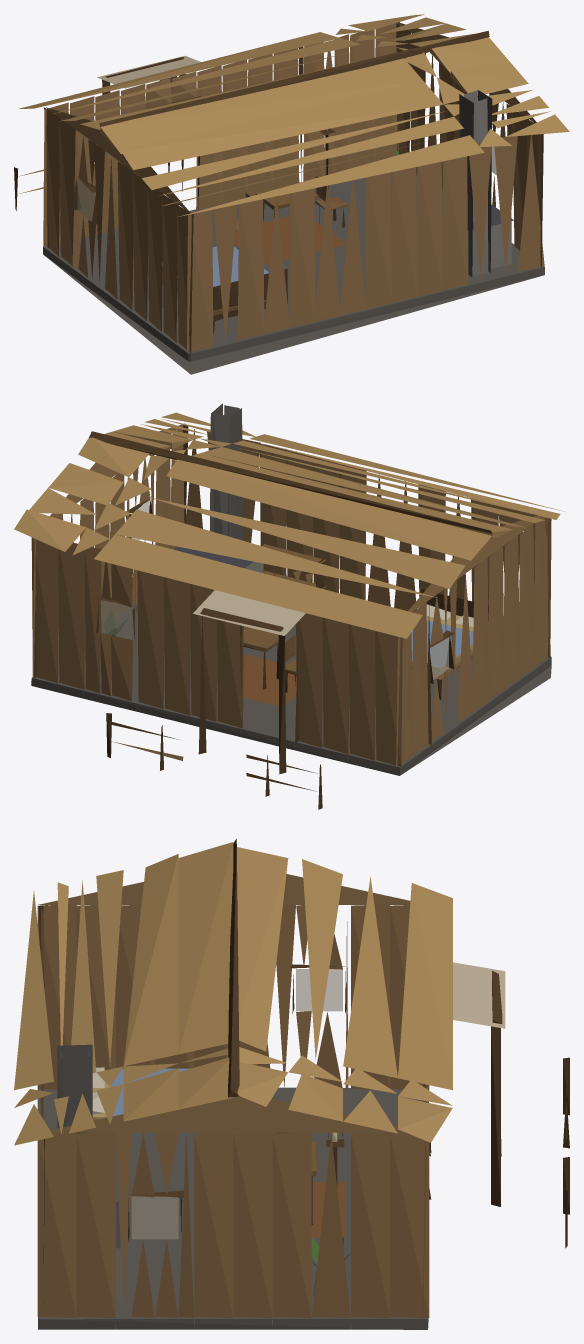
Rendered from hy4_vecino_rojo_20261107.glb.
The picture shows the model from 3 angles, top to bottom: view 1: azimuth 30°, elevation 25°; view 2: azimuth 150°, elevation 25°; view 3: azimuth 270°, elevation 25°; orthographic projection. The views are drawn at different scales.
Parts seen in each view (by area): view 1: SM_Pared_Norte, SM_Techo_Izq, SM_Pared_Oeste, SM_Pared_Sur, SM_Cimiento, SM_Techo_Der, SM_Pared_Este, SM_Cocina, SM_Cumbrera, SM_Zama, SM_Portico, SM_Suelo (+1 smaller); view 2: SM_Pared_Sur, SM_Techo_Der, SM_Pared_Oeste, SM_Techo_Izq, SM_Pared_Norte, SM_Cimiento, SM_Pared_Este, SM_Portico, SM_Cocina, SM_Cumbrera, SM_Zama, SM_Suelo (+2 smaller); view 3: SM_Pared_Este, SM_Techo_Izq, SM_Techo_Der, SM_Pared_Oeste, SM_Cimiento, SM_Portico, SM_Cocina, SM_Cumbrera, SM_Valla_Patio, SM_Zama, SM_Suelo, SM_Mesa_Sillas.
Boxes of the visible parts, <box> form: SM_Pared_Norte: <box>187,134,544,352</box>; SM_Techo_Izq: <box>100,37,569,216</box>; SM_Pared_Oeste: <box>44,107,193,353</box>; SM_Pared_Sur: <box>43,22,399,248</box>; SM_Cimiento: <box>43,173,544,374</box>; SM_Techo_Der: <box>19,14,474,129</box>; SM_Pared_Este: <box>396,22,543,267</box>; SM_Cocina: <box>381,90,513,277</box>; SM_Cumbrera: <box>99,30,489,126</box>; SM_Zama: <box>162,246,287,333</box>; SM_Portico: <box>97,55,201,191</box>; SM_Suelo: <box>234,216,346,264</box>; SM_Pared_Sur: <box>31,537,402,766</box>; SM_Techo_Der: <box>14,437,491,638</box>; SM_Pared_Oeste: <box>396,515,550,766</box>; SM_Techo_Izq: <box>104,412,564,539</box>; SM_Pared_Norte: <box>183,425,551,657</box>; SM_Cimiento: <box>31,603,551,775</box>; SM_Pared_Este: <box>32,423,186,677</box>; SM_Portico: <box>193,590,305,774</box>; SM_Cocina: <box>100,403,326,658</box>; SM_Cumbrera: <box>89,431,491,533</box>; SM_Zama: <box>411,589,488,699</box>; SM_Suelo: <box>217,654,296,706</box>; SM_Pared_Este: <box>37,1096,429,1317</box>; SM_Techo_Izq: <box>14,842,233,1145</box>; SM_Techo_Der: <box>237,847,452,1142</box>; SM_Pared_Oeste: <box>37,874,429,1090</box>; SM_Cimiento: <box>37,1087,428,1329</box>; SM_Portico: <box>453,962,505,1206</box>; SM_Cocina: <box>57,1044,350,1304</box>; SM_Cumbrera: <box>228,839,239,1097</box>; SM_Valla_Patio: <box>563,1057,569,1248</box>; SM_Zama: <box>92,1067,190,1120</box>; SM_Suelo: <box>311,1182,345,1237</box>; SM_Mesa_Sillas: <box>276,1132,344,1224</box>.
Bounding box in the file's own units: 7.6 × 3.77 × 7.1.
